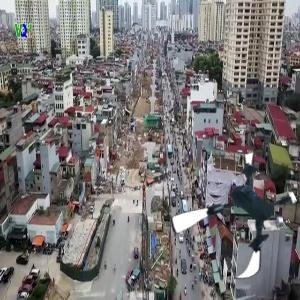drone: (173, 155, 300, 282)
